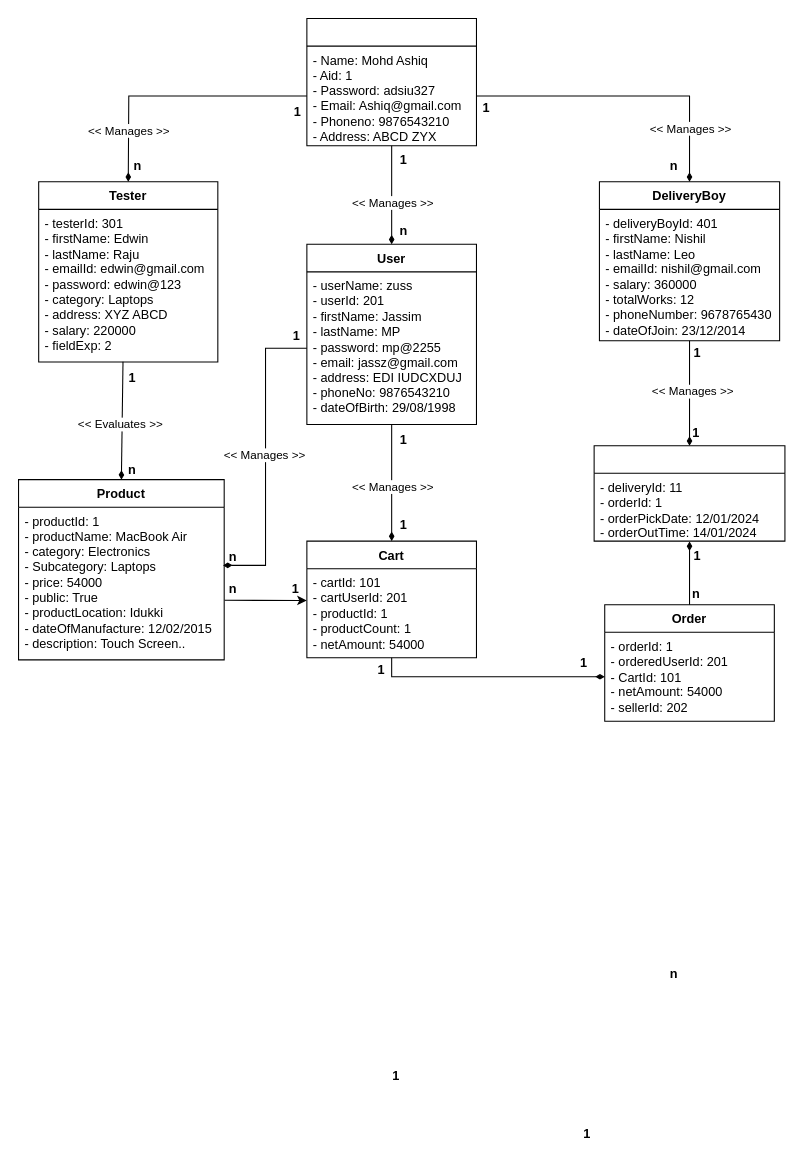
Some shapes in this 803 by 1169 pixel diagram are drawn without their labels. The shapes that lost their labels are listed below. From the top down, each one's box as (x1, y1, x2, y2) in pixels, then its label:
(306, 17, 476, 146): Admin
(593, 445, 785, 541): DeliveryChart
